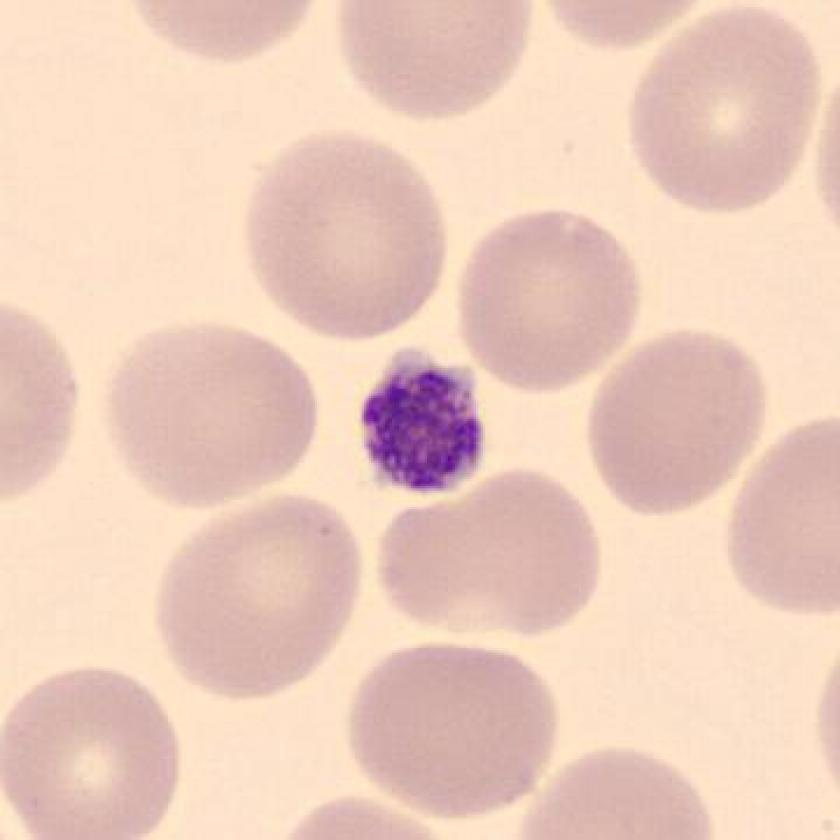platelets: (344, 332, 496, 510)
